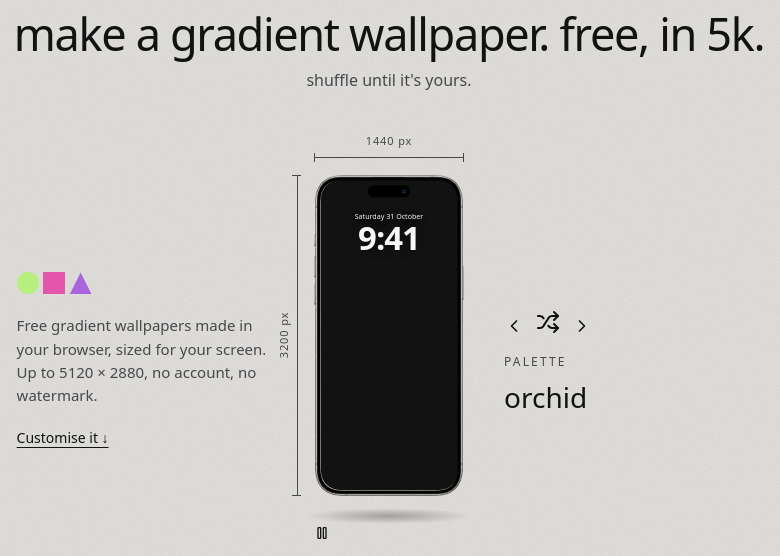
Test case: Hero › drops the pack piece when the visitor steps back to a gradient
Click the button named "shuffle: generate another wallpaper" at x=548, y=326, box [536,310,560,341]
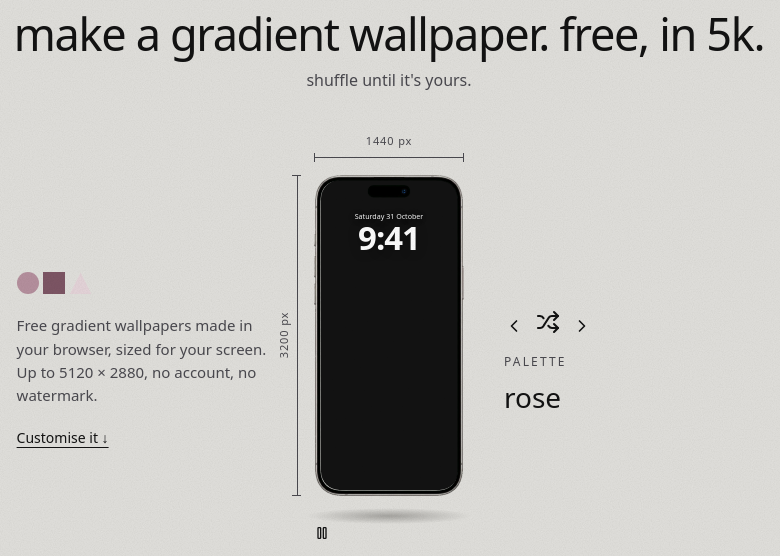
Click the button named "shuffle: generate another wallpaper" at x=548, y=326, box [536,310,560,341]
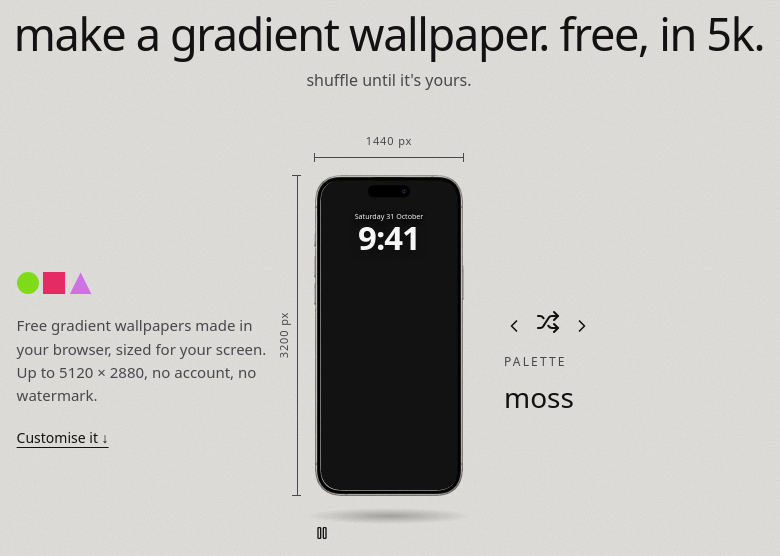
Click the button named "shuffle: generate another wallpaper" at x=548, y=326, box [536,310,560,341]
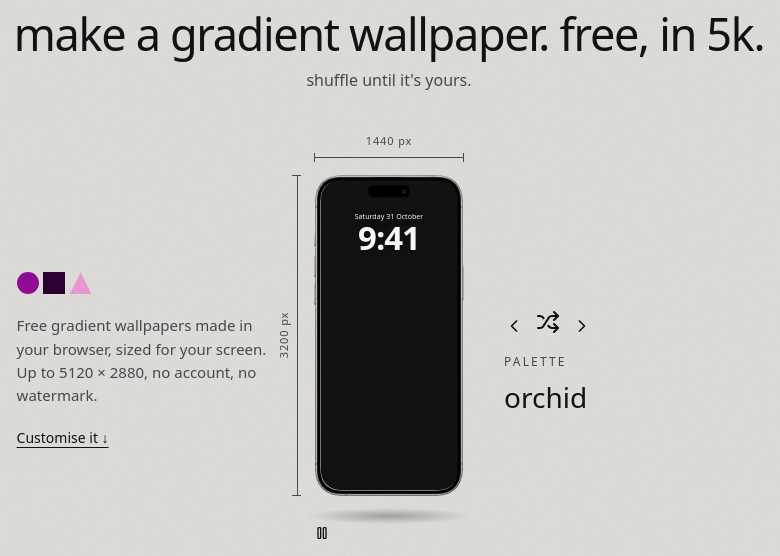
Click the button named "shuffle: generate another wallpaper" at x=548, y=326, box [536,310,560,341]
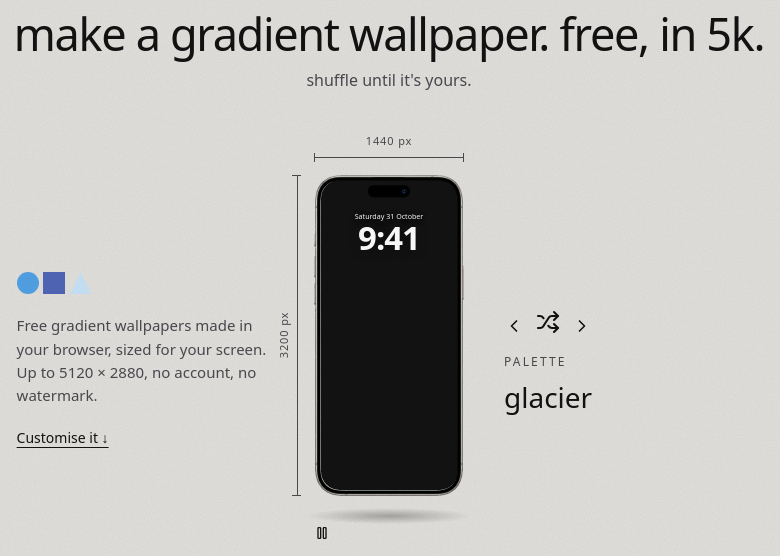
Click the button named "shuffle: generate another wallpaper" at x=548, y=326, box [536,310,560,341]
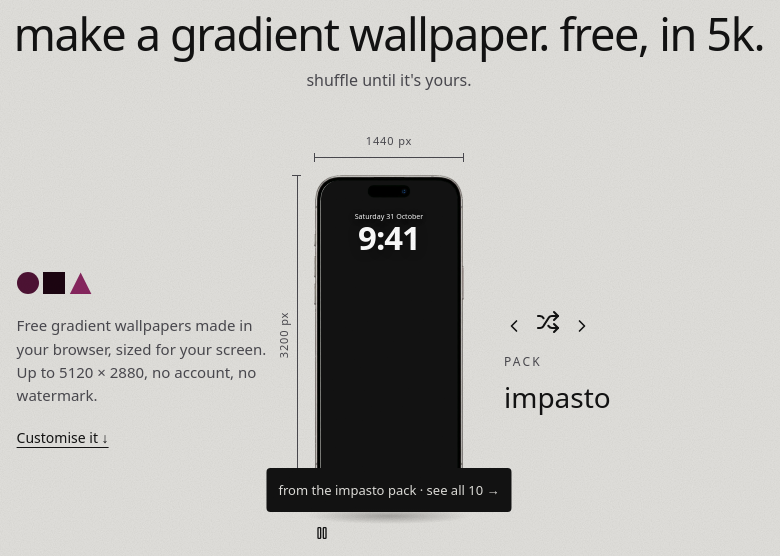
Expected: the link "from the impasto pack · see all 10 →" is shown, [266,468,512,512]
Click the button named "previous wallpaper" at x=514, y=326, box [504,316,524,336]
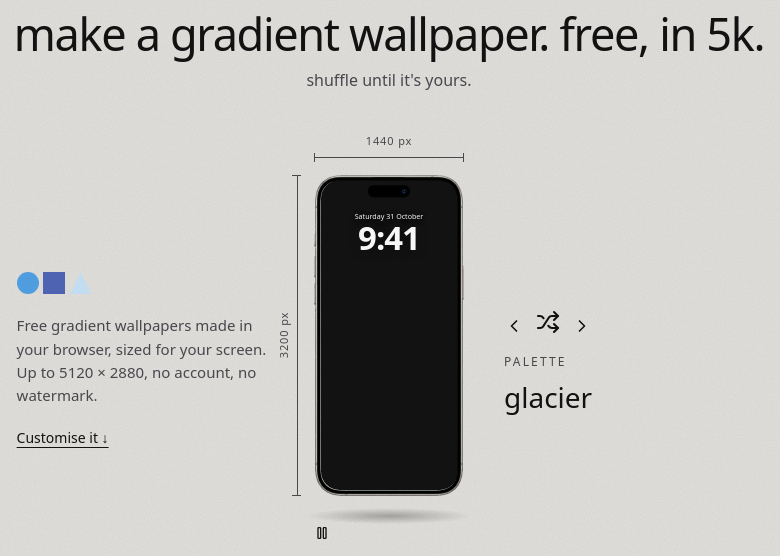
Expected: the link "from the impasto pack · see all 10 →" is gone
